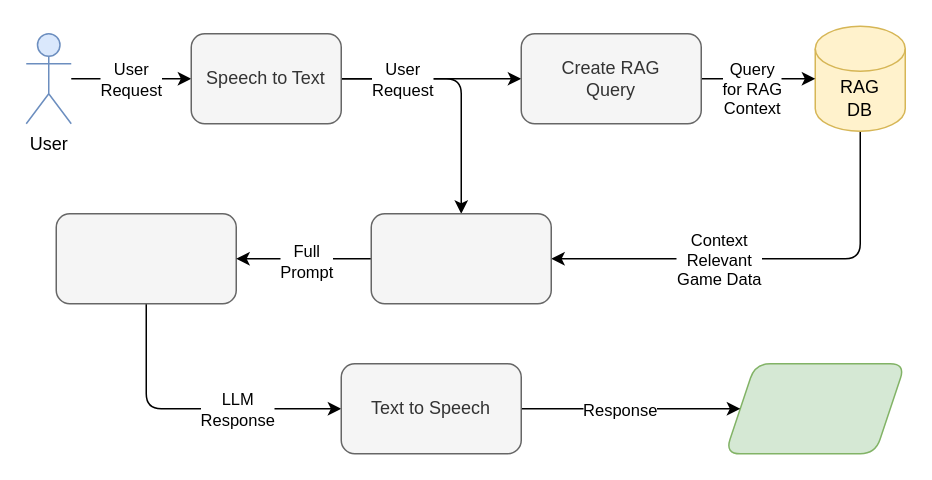
Image size: 932x480. Some labels were removed from this diagram. The centre of each missing label's shape, as x and y in pixels:
Core LLM: point (145, 258)
Play Response: point (814, 408)
Prepare Full Prompt: point (460, 258)
